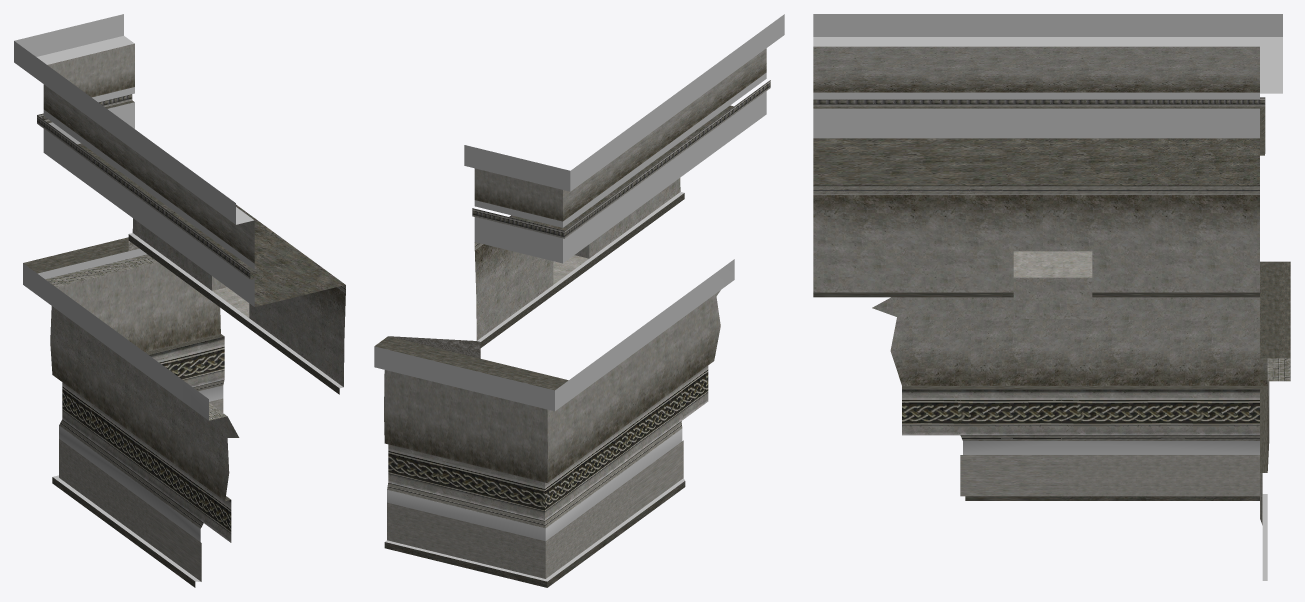
Rendered from DWARF_PALACE_FORGE_WALL01BA.obj.
3 renders of one model, left to right at view 1: azimuth 30°, elevation 25°; view 2: azimuth 150°, elevation 25°; view 3: azimuth 270°, elevation 25°, orthographic. The views are drawn at different scales.
Parts seen in each view (by area): view 1: forge_wall01Ba; view 2: forge_wall01Ba; view 3: forge_wall01Ba.
Boxes of the visible parts, x1,y1,x2,y2 form: forge_wall01Ba: [14, 14, 345, 587]; forge_wall01Ba: [374, 14, 784, 587]; forge_wall01Ba: [813, 14, 1290, 580].
Size of the model in its own units: 963 by 2050 by 1883.
